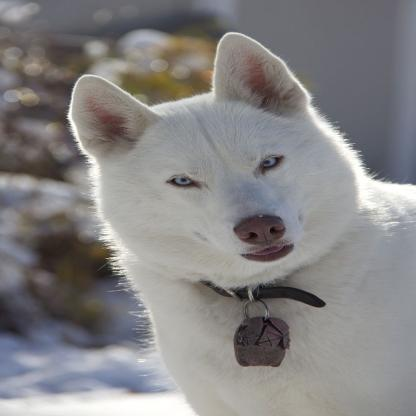husky: (68, 29, 416, 416)
